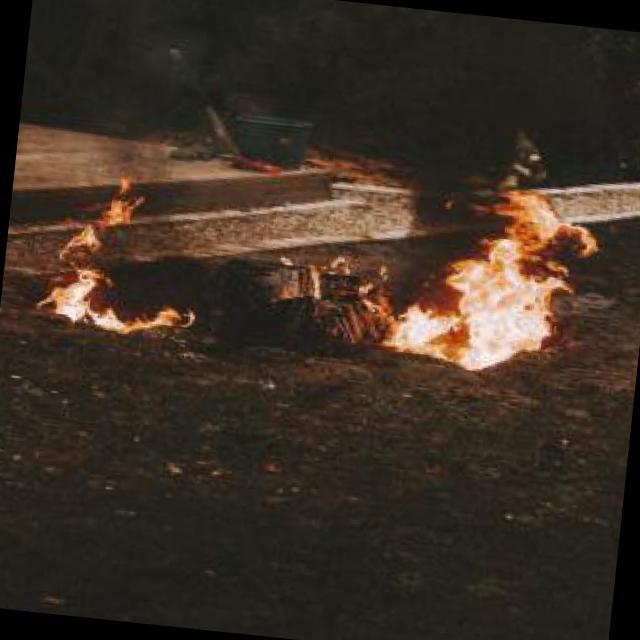fire: (12, 182, 214, 350), (395, 231, 560, 378)
